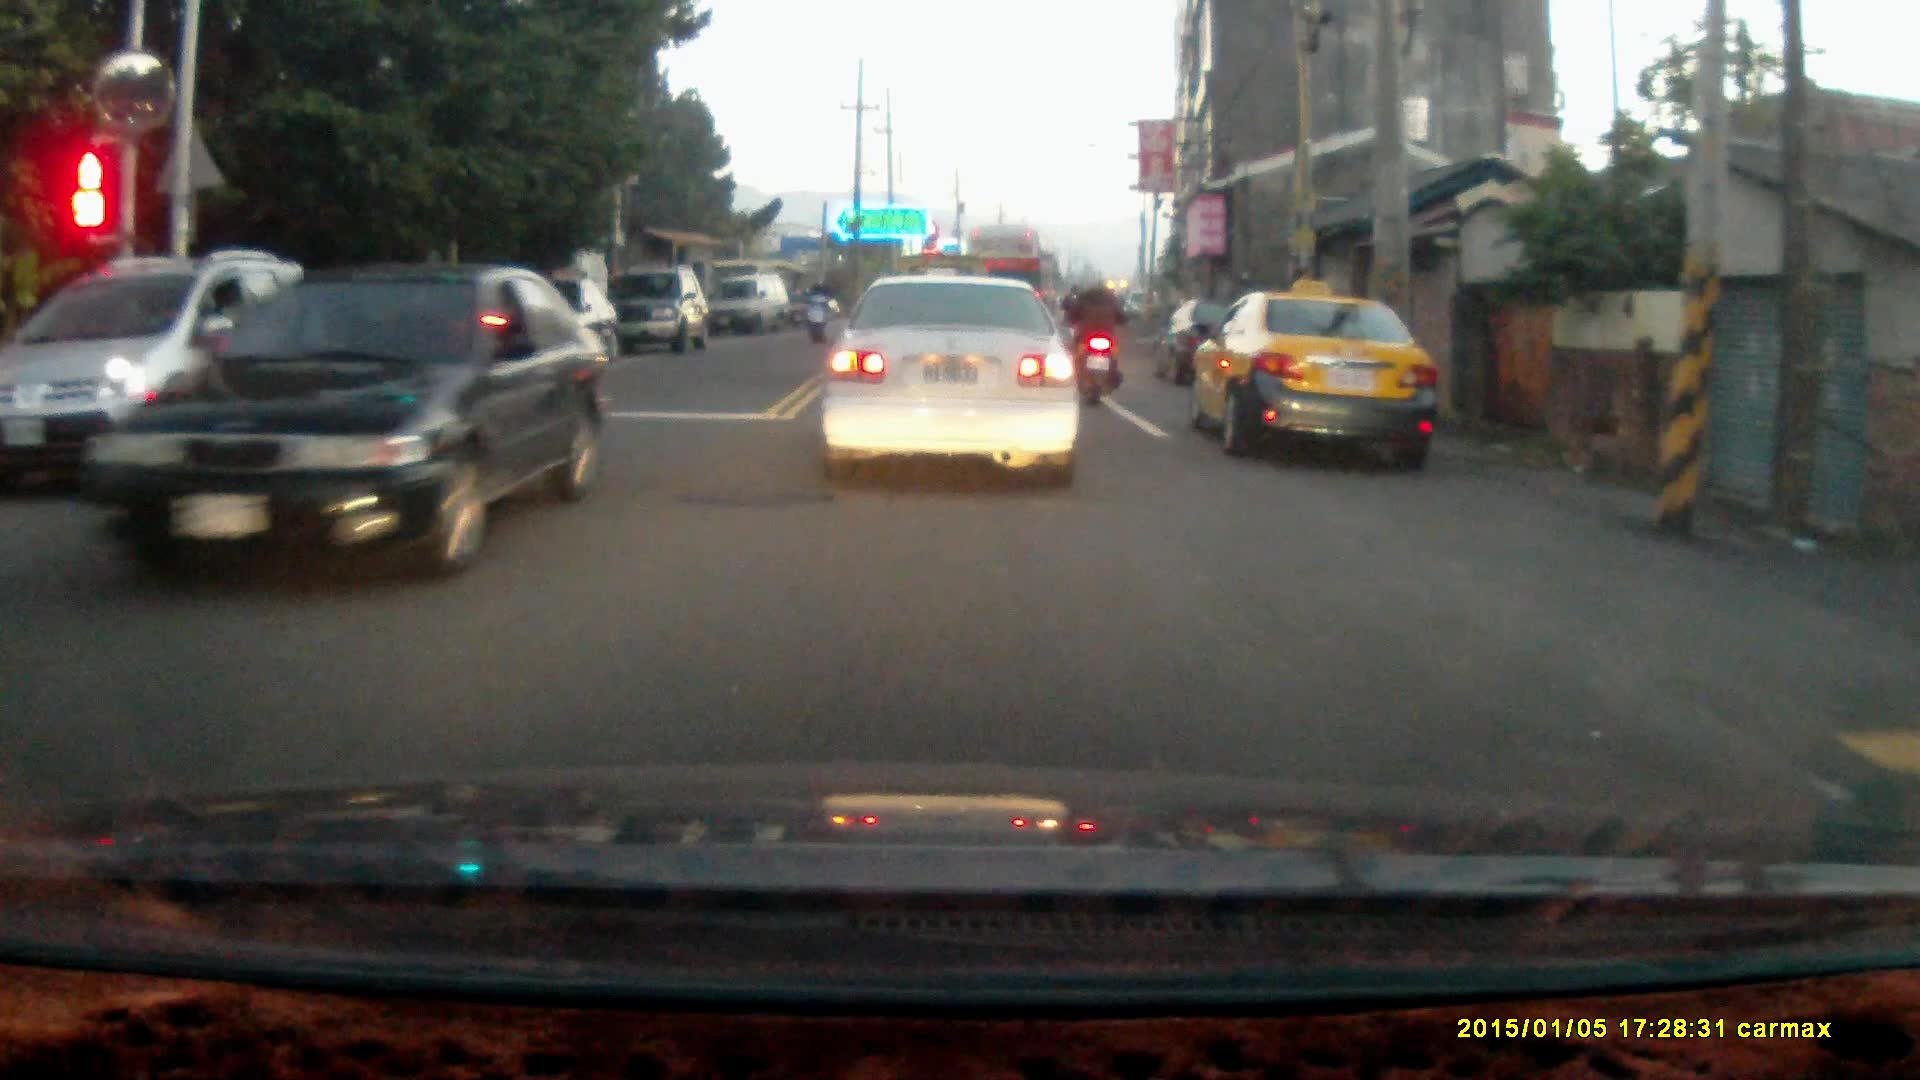rider: (1064, 263, 1126, 404), (798, 270, 832, 343)
vehicle: (88, 263, 575, 590), (818, 273, 1089, 493), (1197, 293, 1443, 466), (612, 261, 708, 355), (715, 277, 794, 334)
